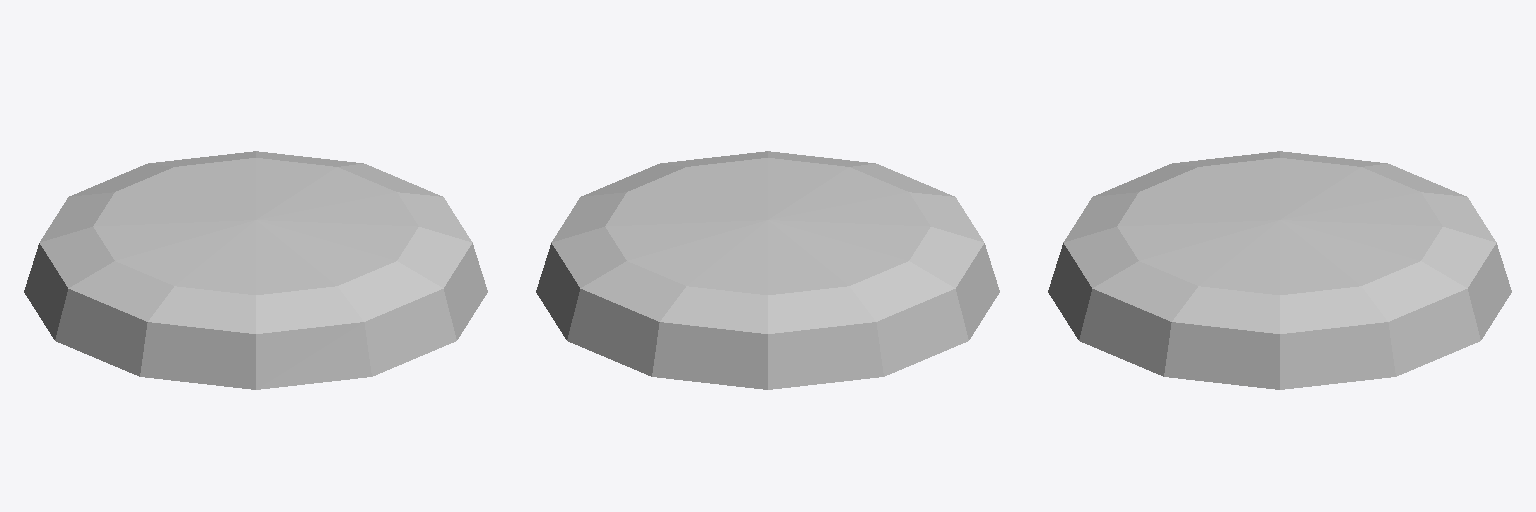
The model's file is MUFF_T_CR.obj.
3 renders of one model, left to right at view 1: azimuth 30°, elevation 25°; view 2: azimuth 150°, elevation 25°; view 3: azimuth 270°, elevation 25°, orthographic.
Visible parts, largest first — view 1: node; view 2: node; view 3: node.
Part boxes in pixels (x1,y1,x2,y2): node: (24, 151, 487, 389); node: (536, 151, 999, 389); node: (1048, 151, 1511, 389).
Bounding box in the file's own units: 2.28 × 0.3906 × 2.28.